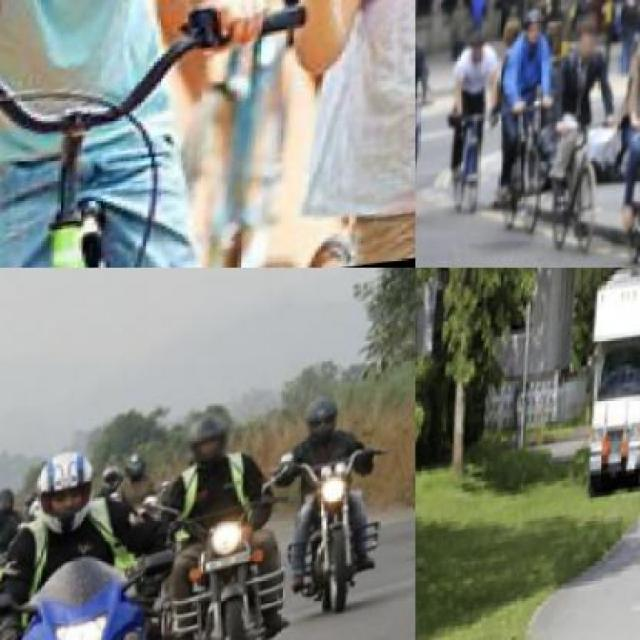With Helmet: (32, 451, 112, 540), (187, 415, 239, 470), (305, 404, 346, 456), (521, 8, 550, 47), (127, 451, 155, 486), (469, 29, 493, 68), (0, 494, 17, 534)
Without Helmet: (576, 19, 602, 64), (415, 18, 423, 60)
